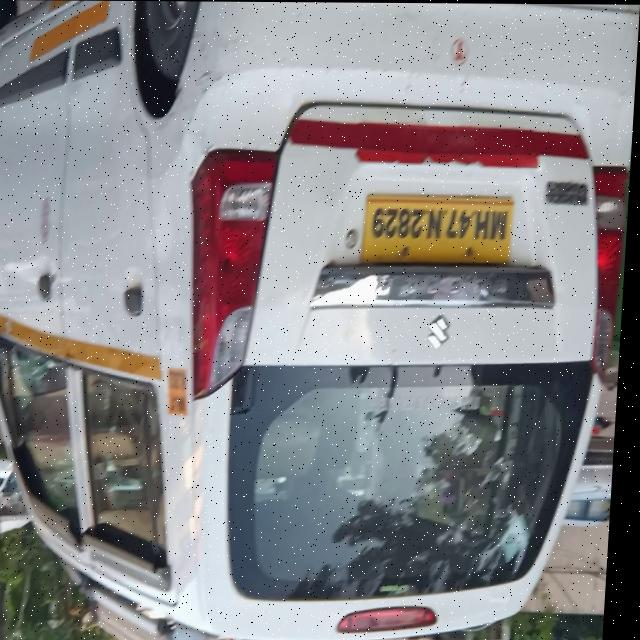plate: (364, 194, 518, 266)
